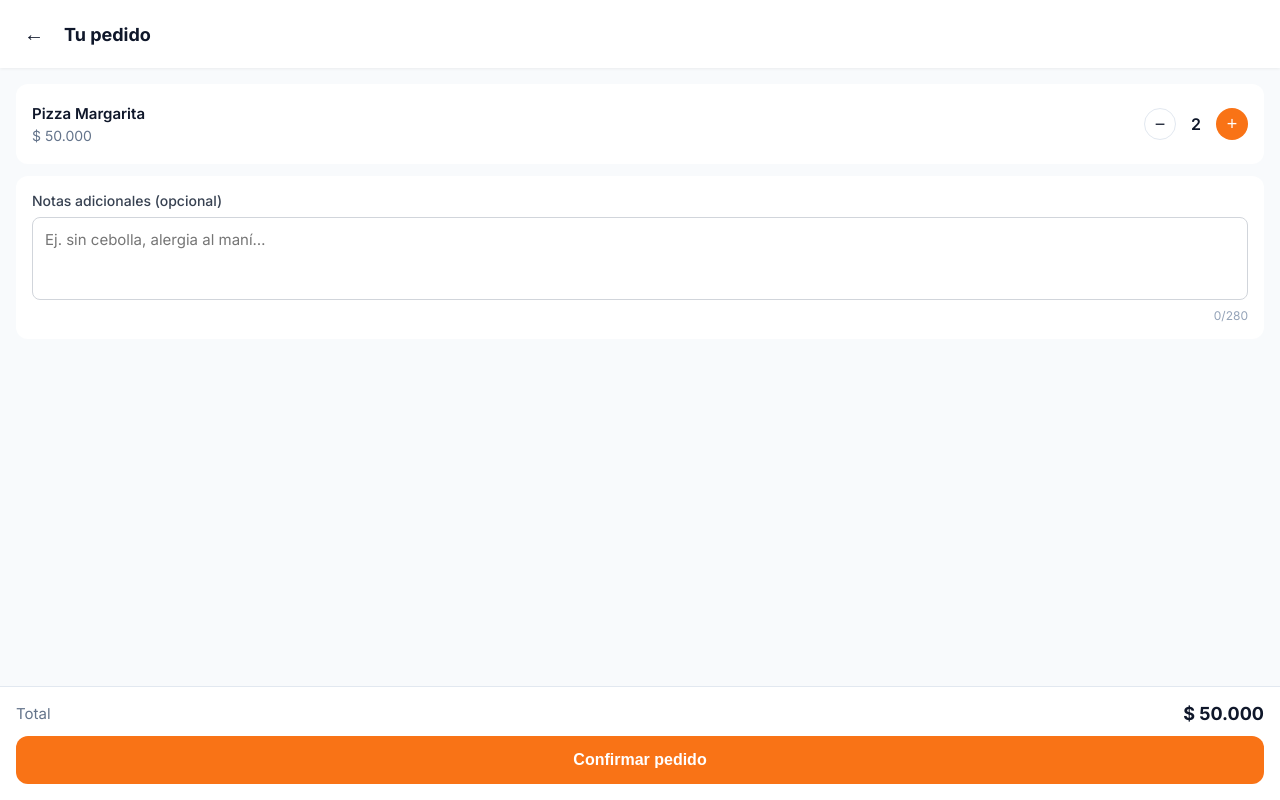
Scenario: CartReview › quantity stepper increases item quantity
Click the button named "Aumentar cantidad de Pizza Margarita": (1232, 124) [1216,108,1248,140]
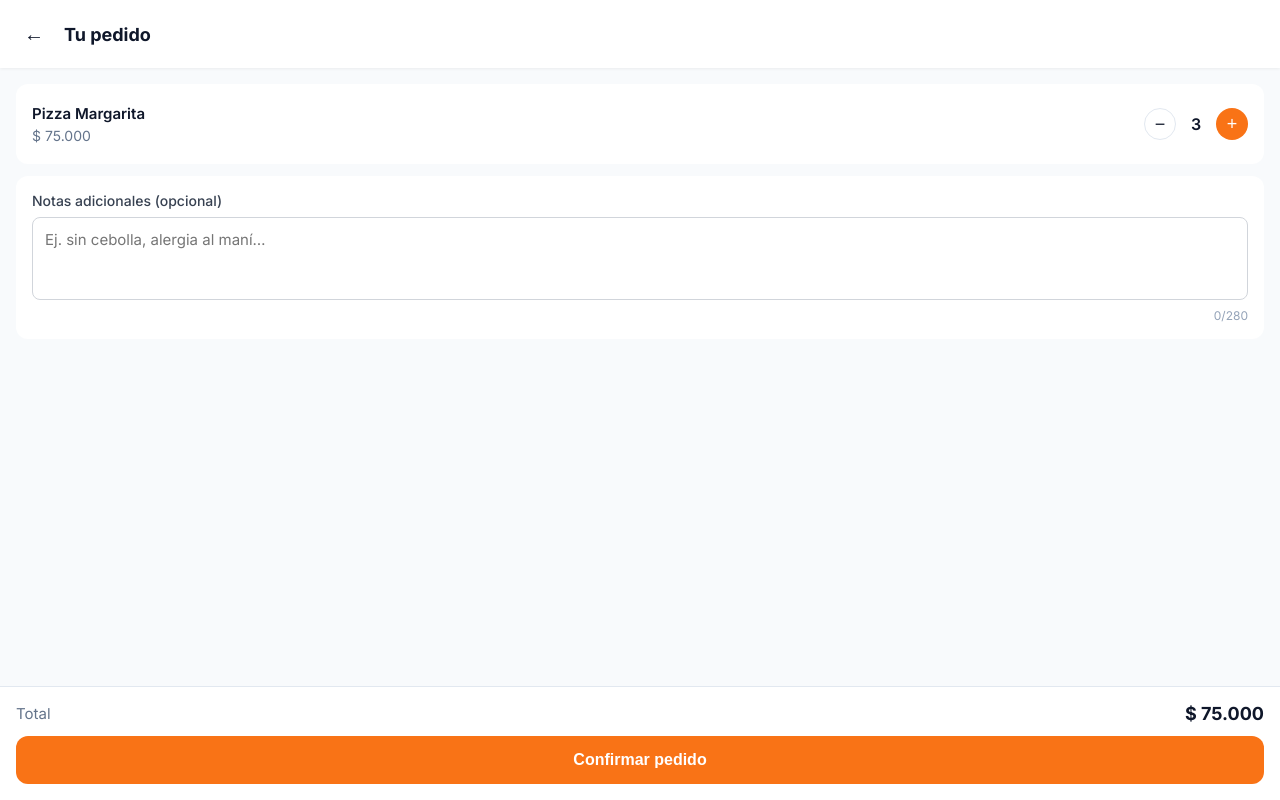
Check: the text named "Cantidad de Pizza Margarita: 3" is shown, box [1191,114,1201,134]
